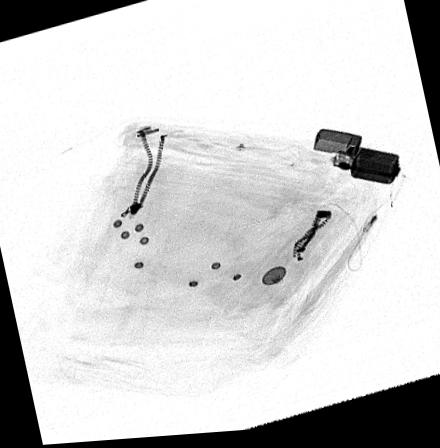Lighter: (312, 133, 402, 190)
